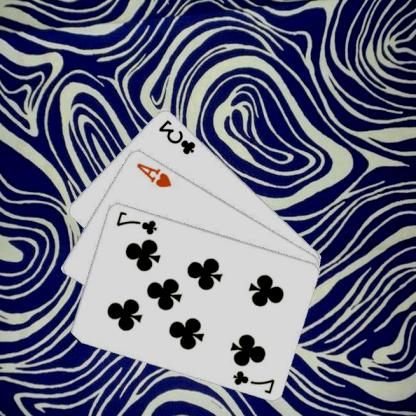3C: (157, 116, 199, 156)
7C: (232, 367, 278, 395), (115, 208, 160, 236)
AH: (135, 160, 175, 189)
